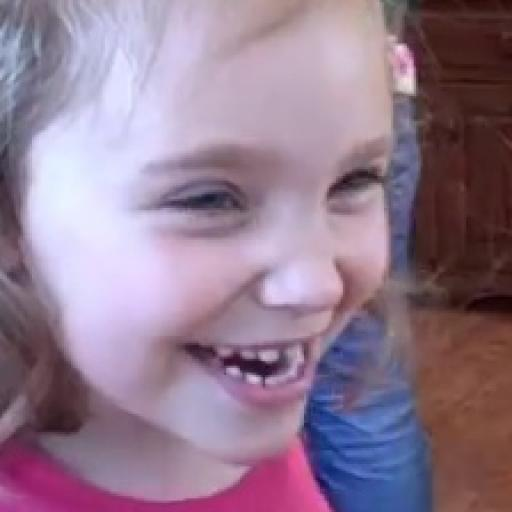Autism: (47, 12, 414, 502)
